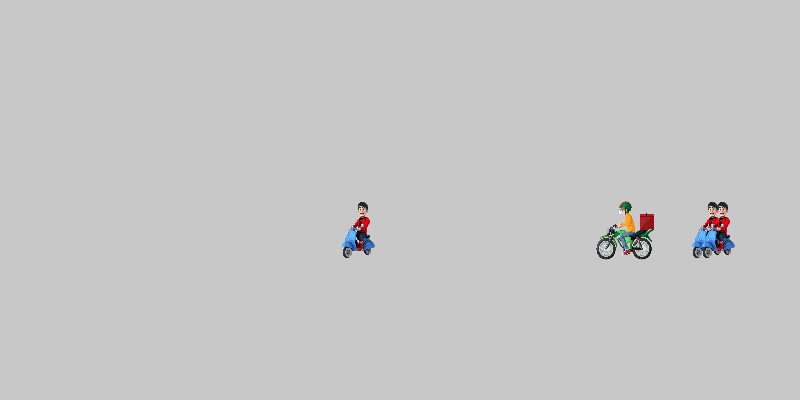helmet: (595, 200, 655, 260)
no_helmet: (330, 200, 390, 260), (680, 200, 740, 260), (690, 200, 750, 260)
